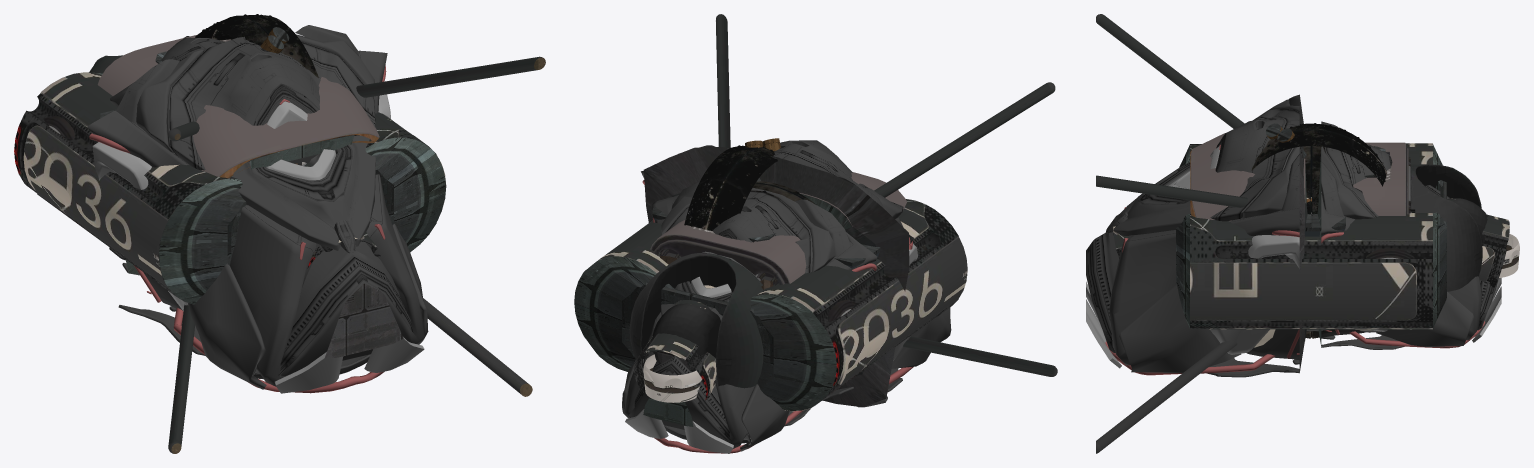
Rendered from sections.glb.
3 views of the same model, side by side, from view 1: azimuth 30°, elevation 25°; view 2: azimuth 150°, elevation 25°; view 3: azimuth 270°, elevation 25° (orthographic). The views are drawn at different scales.
Visible parts, largest first — view 1: capital-bow-recessed-prow, freighter-mid-duplex-tanks, freighter-bow-slant-hood, builder-bow-capture-tines, receiver, cargo-stern-pump-cowl, freighter-stern-recessed-tail; view 2: freighter-mid-duplex-tanks, freighter-stern-recessed-tail, capital-bow-recessed-prow, capital-stern-stator, builder-bow-capture-tines, cargo-stern-pump-cowl, receiver, optical-trunk--1, pivot--1, freighter-bow-slant-hood, capital-mid-gimbal; view 3: capital-bow-recessed-prow, freighter-mid-duplex-tanks, freighter-stern-recessed-tail, builder-bow-capture-tines, capital-stern-stator, freighter-bow-slant-hood, receiver, cargo-stern-pump-cowl, optical-trunk--1, capital-mid-gimbal, pivot--1, builder-stern-recovery-deck.
Boxes of the visible parts, x1,y1,x2,y2 form: capital-bow-recessed-prow: [87, 25, 428, 393]; freighter-mid-duplex-tanks: [14, 72, 446, 304]; freighter-bow-slant-hood: [193, 77, 379, 179]; builder-bow-capture-tines: [168, 56, 545, 453]; receiver: [195, 14, 318, 77]; cargo-stern-pump-cowl: [97, 34, 230, 95]; freighter-stern-recessed-tail: [109, 37, 223, 275]; freighter-mid-duplex-tanks: [574, 196, 967, 411]; freighter-stern-recessed-tail: [622, 181, 877, 453]; capital-bow-recessed-prow: [641, 140, 951, 407]; capital-stern-stator: [629, 251, 763, 388]; builder-bow-capture-tines: [716, 14, 1057, 376]; cargo-stern-pump-cowl: [650, 219, 806, 289]; receiver: [684, 145, 777, 230]; optical-trunk--1: [633, 285, 716, 402]; pivot--1: [643, 354, 701, 402]; freighter-bow-slant-hood: [799, 172, 906, 229]; capital-mid-gimbal: [751, 181, 816, 204]; capital-bow-recessed-prow: [1086, 94, 1307, 377]; freighter-mid-duplex-tanks: [1176, 143, 1446, 329]; freighter-stern-recessed-tail: [1317, 121, 1501, 349]; builder-bow-capture-tines: [1096, 14, 1247, 453]; capital-stern-stator: [1408, 164, 1487, 291]; freighter-bow-slant-hood: [1190, 133, 1306, 347]; receiver: [1251, 123, 1387, 186]; cargo-stern-pump-cowl: [1353, 142, 1410, 330]; optical-trunk--1: [1479, 214, 1509, 287]; capital-mid-gimbal: [1303, 146, 1335, 338]; pivot--1: [1499, 233, 1519, 277]; builder-stern-recovery-deck: [1366, 248, 1414, 324].
Bounding box in the file's own units: 2.17 × 1.94 × 2.58.
22 materials, 17 textured.
